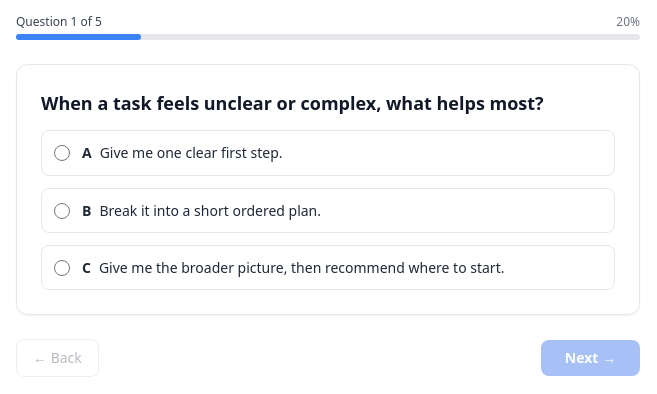
Test: SetupComponent › requires an answer before advancing
This screenshot has width=657, height=394.
Expected: the button with test id "next-btn" is disabled, [541, 340, 640, 376]
Click the radio button with test id "option-A" at (62, 153), box [54, 145, 70, 161]
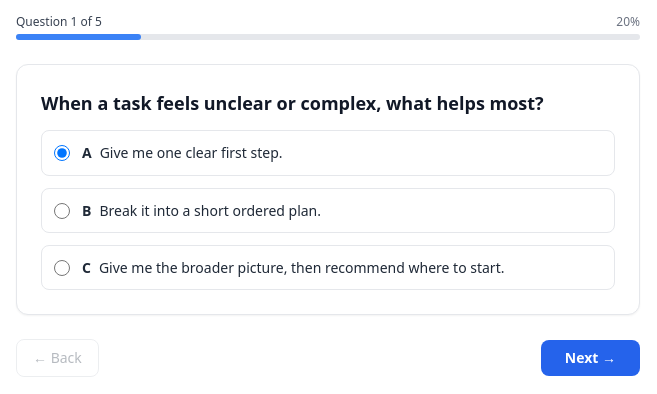
Expected: the button with test id "next-btn" is enabled, [541, 340, 640, 376]
